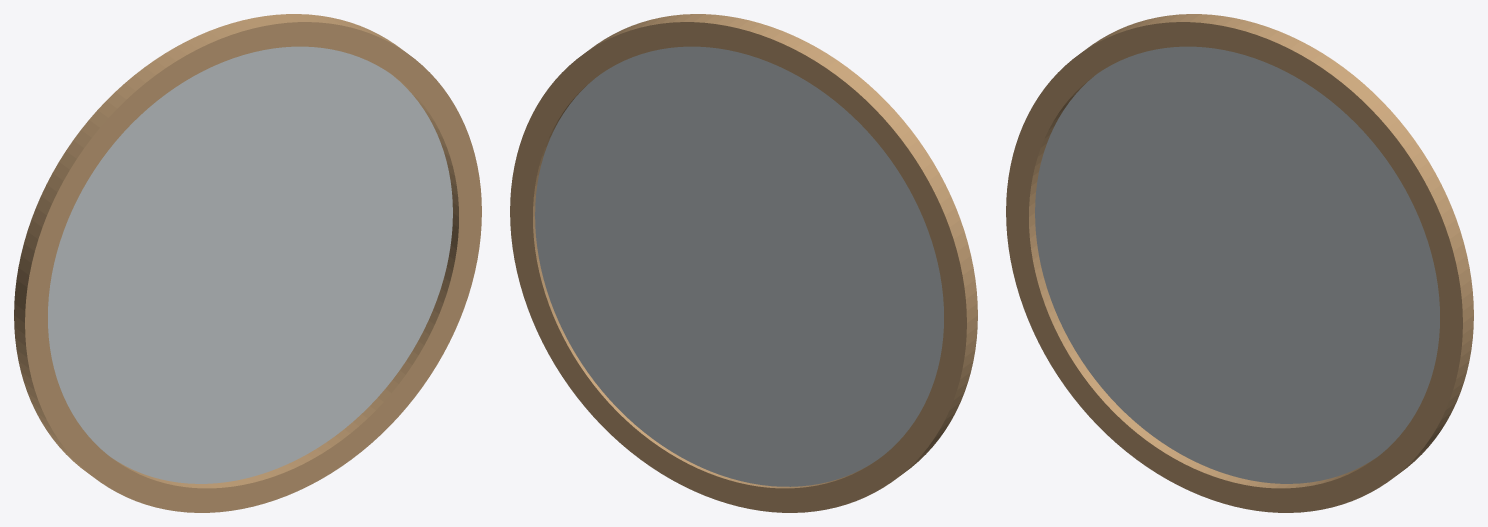
File: rund-vaggspegel-ek.glb
The picture shows the model from 3 angles, left to right: view 1: azimuth 30°, elevation 25°; view 2: azimuth 150°, elevation 25°; view 3: azimuth 330°, elevation 25°; orthographic projection.
Visible parts, largest first — view 1: rund-vaggspegel-ek-1, rund-vaggspegel-ek-0; view 2: rund-vaggspegel-ek-1, rund-vaggspegel-ek-0; view 3: rund-vaggspegel-ek-1, rund-vaggspegel-ek-0.
Boxes of the visible parts, x1,y1,x2,y2 form: rund-vaggspegel-ek-1: (48, 46, 452, 483); rund-vaggspegel-ek-0: (14, 14, 481, 512); rund-vaggspegel-ek-1: (535, 46, 943, 486); rund-vaggspegel-ek-0: (510, 14, 977, 512); rund-vaggspegel-ek-1: (1035, 46, 1439, 483); rund-vaggspegel-ek-0: (1006, 14, 1473, 512).
Size of the model in its own units: 0.6 by 0.6 by 0.025.
